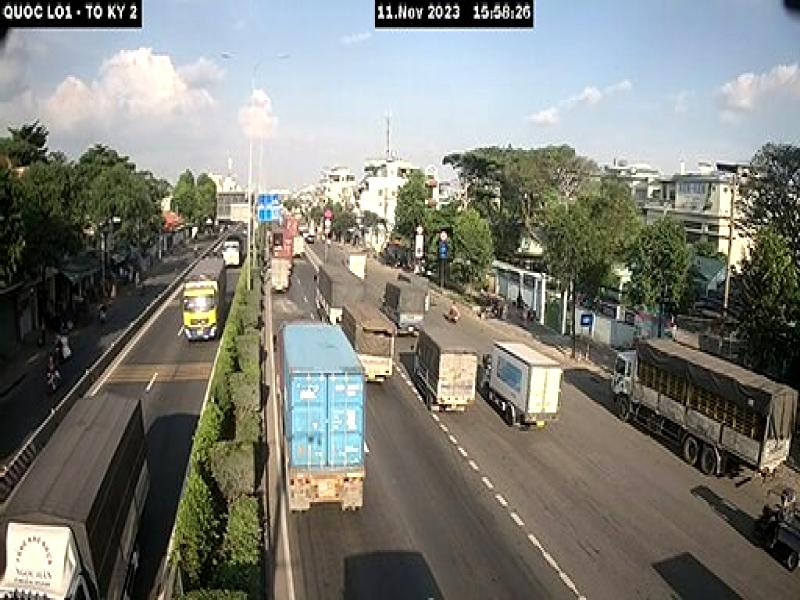truck: (0, 396, 153, 600), (614, 335, 798, 478), (275, 316, 367, 513), (483, 342, 567, 427), (411, 332, 479, 417), (340, 302, 398, 386), (182, 255, 223, 341), (313, 262, 365, 320)
